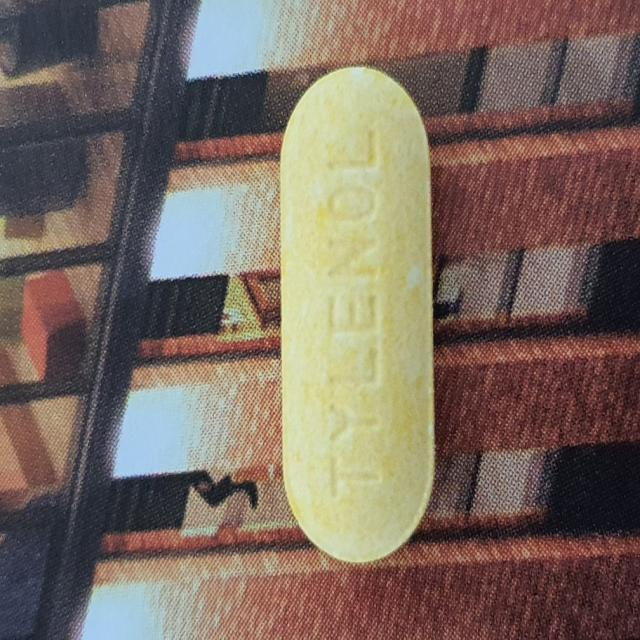pill: (261, 44, 454, 566)
